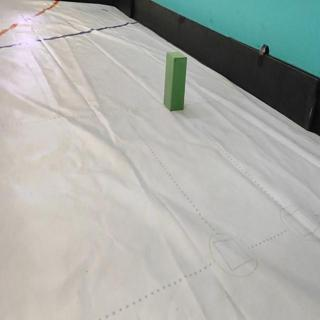greenbox: (163, 49, 189, 112)
